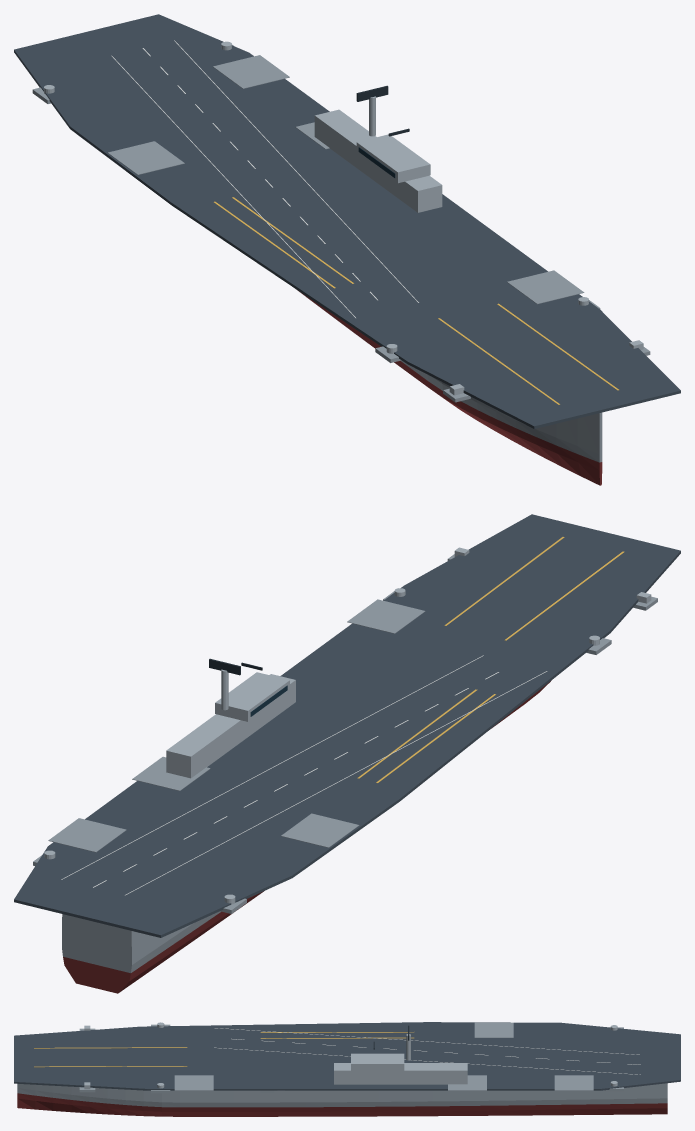
File: ran_cvn_federation_1968.obj
3 views of the same model, one above another, from view 1: azimuth 30°, elevation 25°; view 2: azimuth 150°, elevation 25°; view 3: azimuth 270°, elevation 25° (orthographic). The views are drawn at different scales.
Parts seen in each view (by area): view 1: FlightDeck, Island, UnderwaterHull, Hull, Bridge, Elevator_1, Elevator_3, Elevator_4; view 2: FlightDeck, Hull, Island, UnderwaterHull, Bridge, Elevator_1, Elevator_3, Elevator_4, Elevator_2; view 3: FlightDeck, Hull, UnderwaterHull, Island, Bridge, Elevator_1, Elevator_3, Elevator_4, Elevator_2, LandingEdge_-1, LandingEdge_1, Catapult_2 (+1 smaller).
Part boxes in pixels (box(x1,y1,x2,y2)): FlightDeck: box(14, 14, 680, 428); Island: box(314, 109, 442, 212); UnderwaterHull: box(297, 290, 602, 485); Hull: box(400, 360, 602, 462); Bridge: box(356, 134, 430, 183); Elevator_1: box(507, 270, 584, 304); Elevator_3: box(213, 55, 289, 88); Elevator_4: box(108, 141, 184, 174); FlightDeck: box(14, 514, 680, 937); Hull: box(62, 911, 220, 973); Island: box(166, 674, 295, 778); UnderwaterHull: box(63, 680, 551, 993); Bridge: box(215, 672, 289, 721); Elevator_1: box(347, 599, 425, 633); Elevator_3: box(48, 818, 126, 852); Elevator_4: box(281, 813, 359, 847); Elevator_2: box(132, 756, 210, 790); FlightDeck: box(14, 1022, 680, 1090); Hull: box(17, 1083, 667, 1107); UnderwaterHull: box(17, 1093, 667, 1116); Island: box(334, 1063, 467, 1084); Bridge: box(351, 1053, 404, 1070); Elevator_1: box(174, 1075, 213, 1090); Elevator_3: box(554, 1075, 593, 1090); Elevator_4: box(474, 1022, 513, 1037); Elevator_2: box(448, 1075, 486, 1090); LandingEdge_-1: box(214, 1028, 639, 1054); LandingEdge_1: box(214, 1047, 640, 1074); Catapult_2: box(34, 1047, 187, 1048).
Size of the model in its own units: 83.1 by 57.5 by 342.
